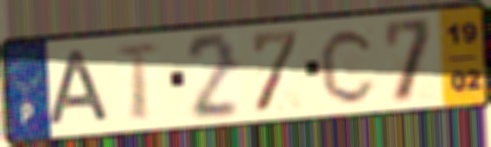2: (183, 30, 247, 126)
7: (382, 17, 436, 106), (249, 27, 303, 115)
A: (46, 47, 114, 129)
C: (317, 25, 379, 107)
T: (113, 41, 165, 123)
